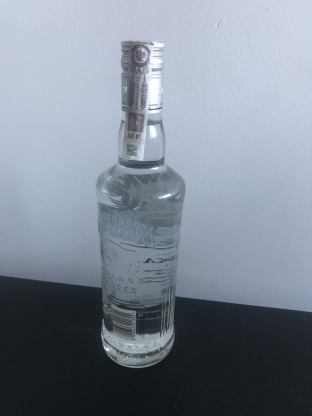nakretka: (118, 38, 166, 116)
